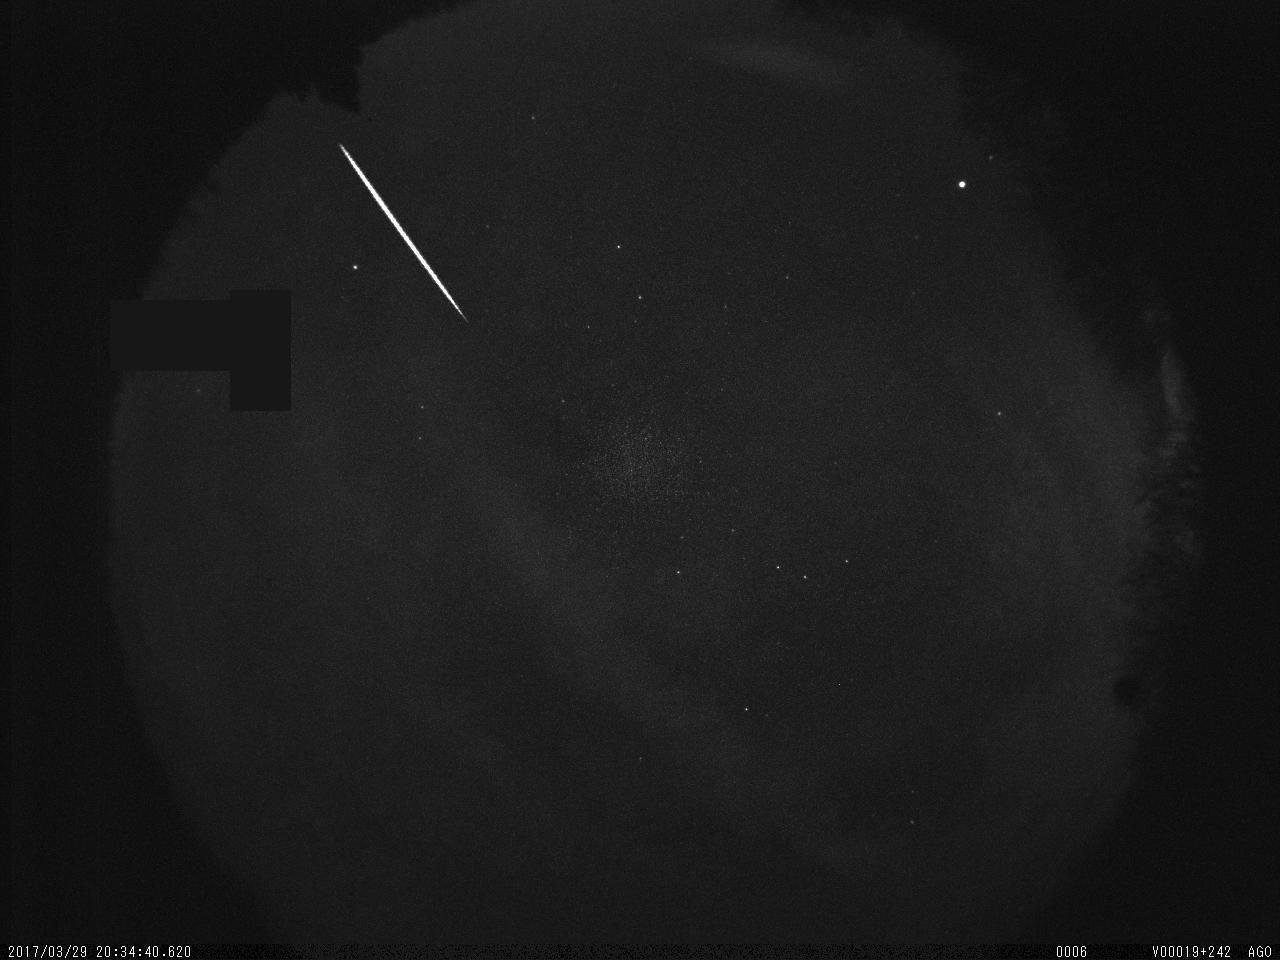Meteor: (335, 141, 468, 324)
